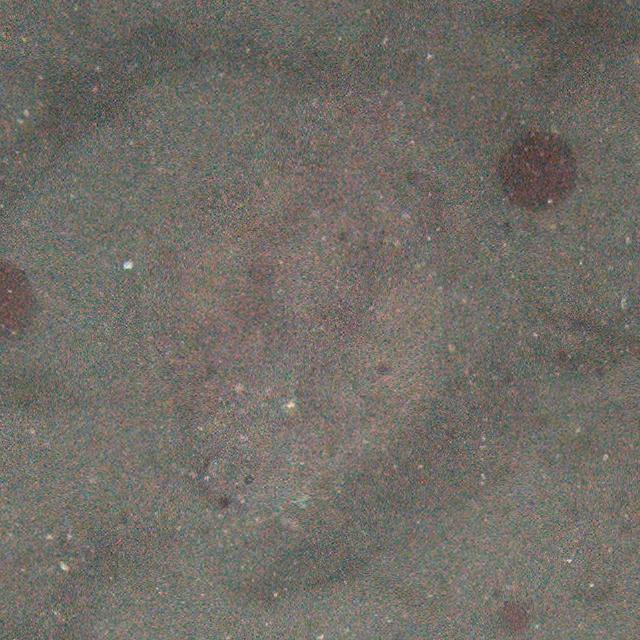flatfish: (151, 85, 461, 529)
